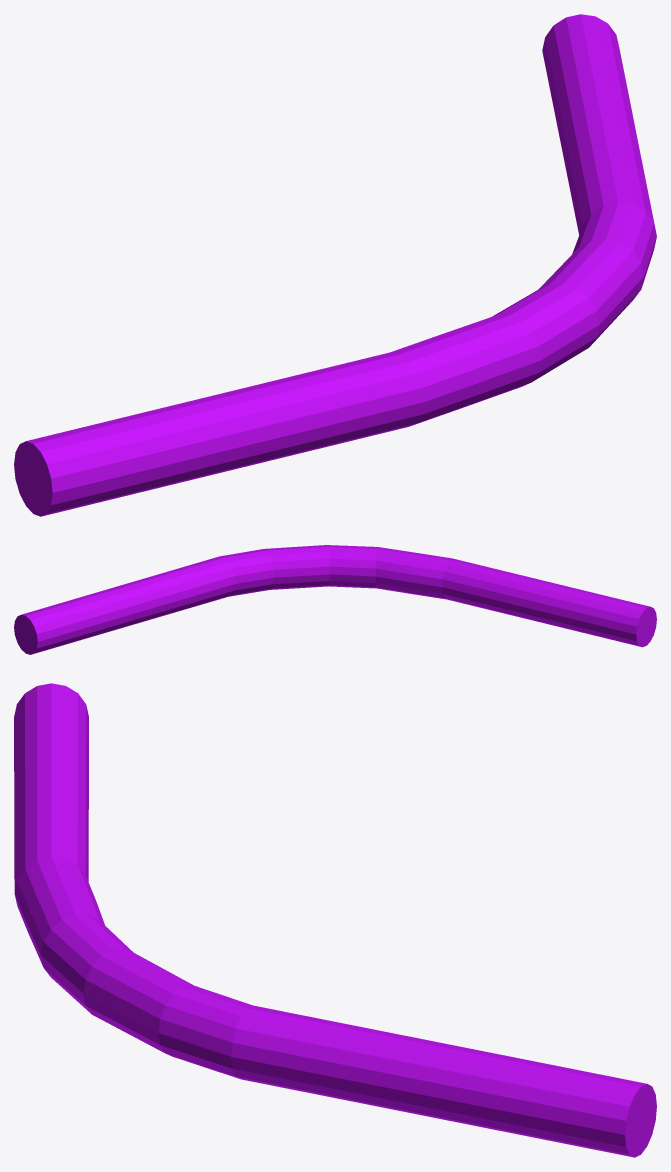
Rendered from ChurroPiscina.FBX.
The picture shows the model from 3 angles, top to bottom: view 1: azimuth 30°, elevation 25°; view 2: azimuth 150°, elevation 25°; view 3: azimuth 270°, elevation 25°; orthographic projection. The views are drawn at different scales.
Visible parts, largest first — view 1: Cylinder; view 2: Cylinder; view 3: Cylinder.
Part boxes in pixels (<box>): Cylinder: <box>14,14,656,516</box>; Cylinder: <box>14,545,656,654</box>; Cylinder: <box>14,683,656,1157</box>.
Bounding box in the file's own units: 80.61 × 6.13 × 52.44.
1 material, 1 textured.
